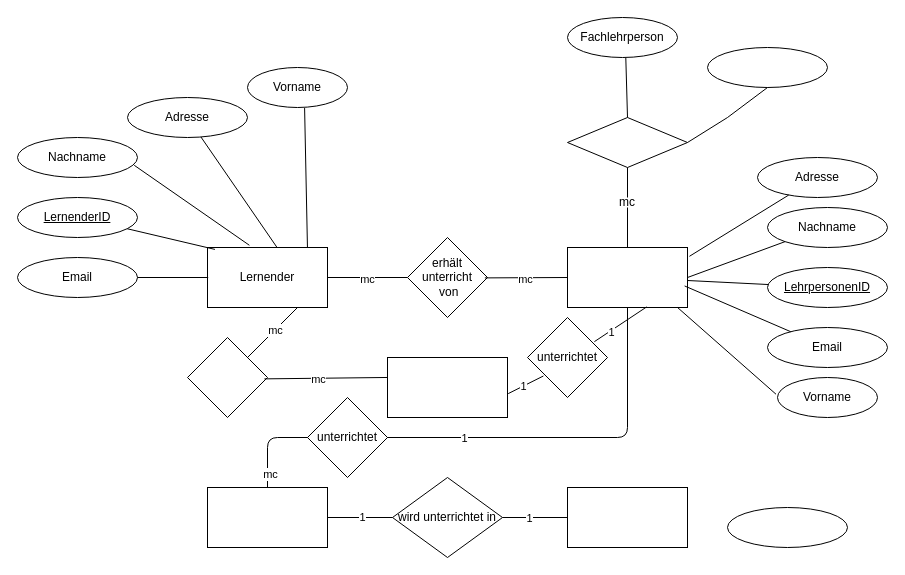
This 905x575 diagram has some shape labels left out. Here are the shapes that lost their labels. From the top down, the centre of each, then its label:
At point 767,67: "Klassenlehrperson".
At point 627,142: "Funktion".
At point 627,277: "Lehrperson".
At point 227,377: "geht in".
At point 447,387: "Klasse".
At point 267,517: "Fach".
At point 627,517: "Raum".
At point 787,527: "Raumnr".
